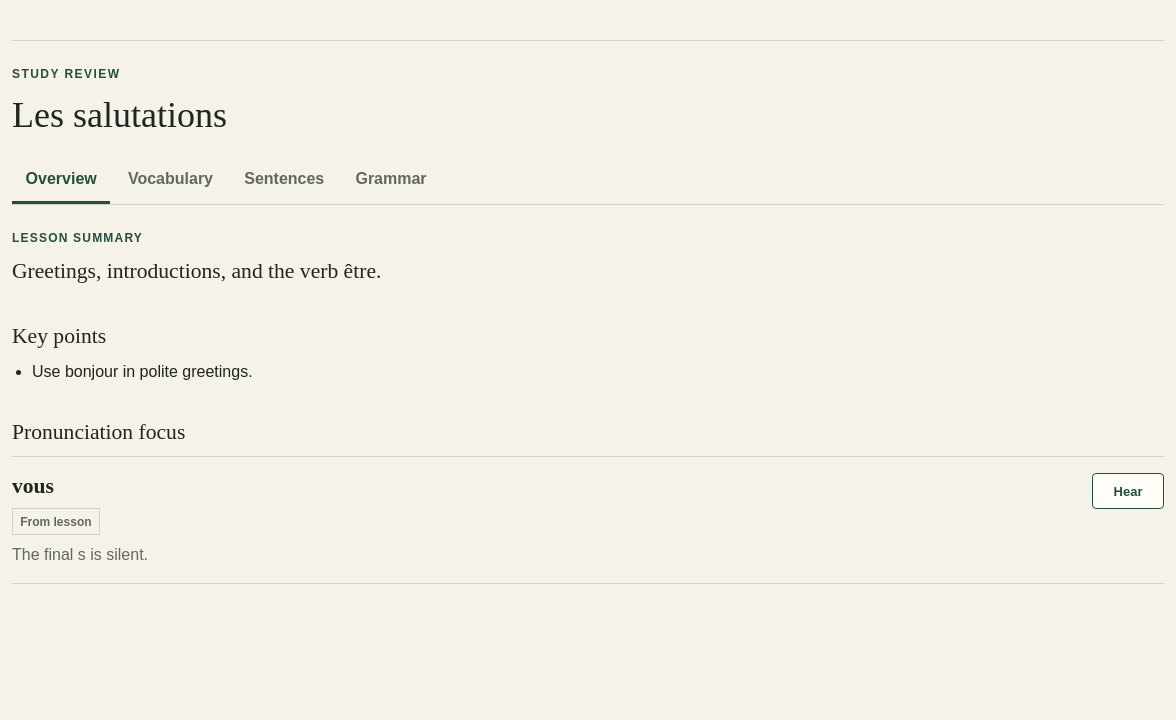
Test: structured lesson study rendering › renders sentence and grammar examples with explicit provenance
What coordinates should you click on to do the following:
click the tab "Sentences"
I would click on:
 (284, 180)
Its box is x1=231 y1=156 x2=338 y2=204.
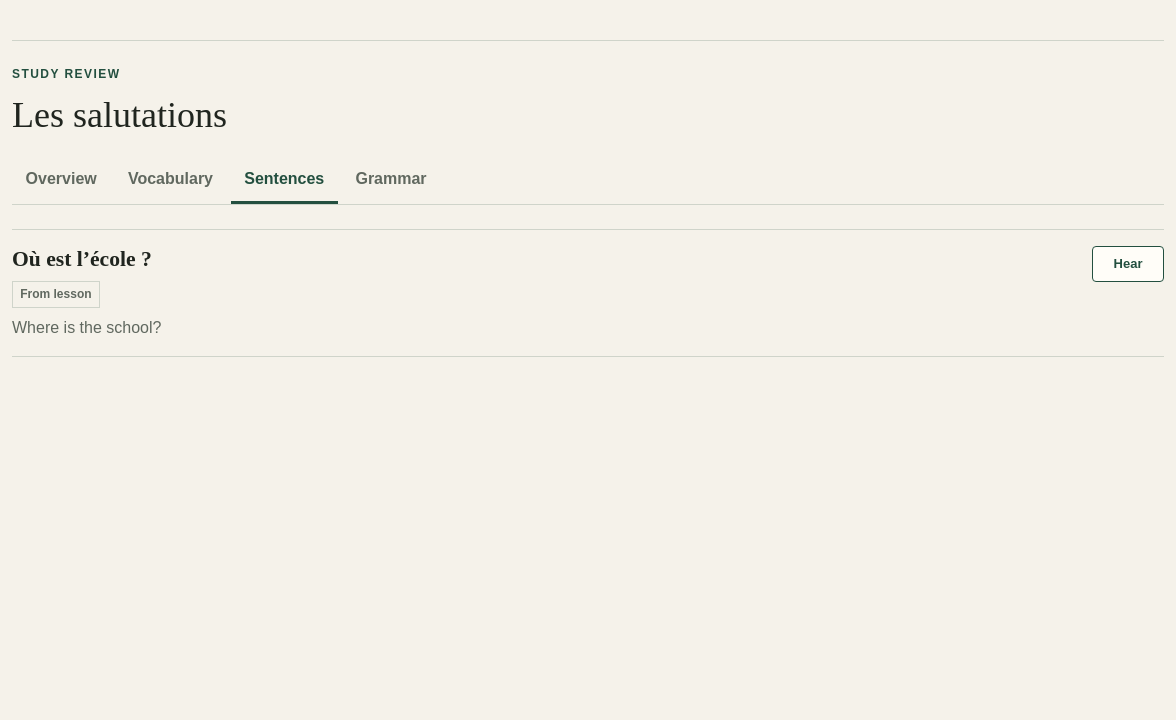
Check: the list item "Où est l’école ?" reads "Où est l’école ? From lesson Hear Where is the school?", box x1=12 y1=229 x2=1164 y2=357
What coordinates should you click on to do the following:
click the tab "Grammar"
I would click on:
 (391, 180)
Its box is x1=342 y1=156 x2=440 y2=204.
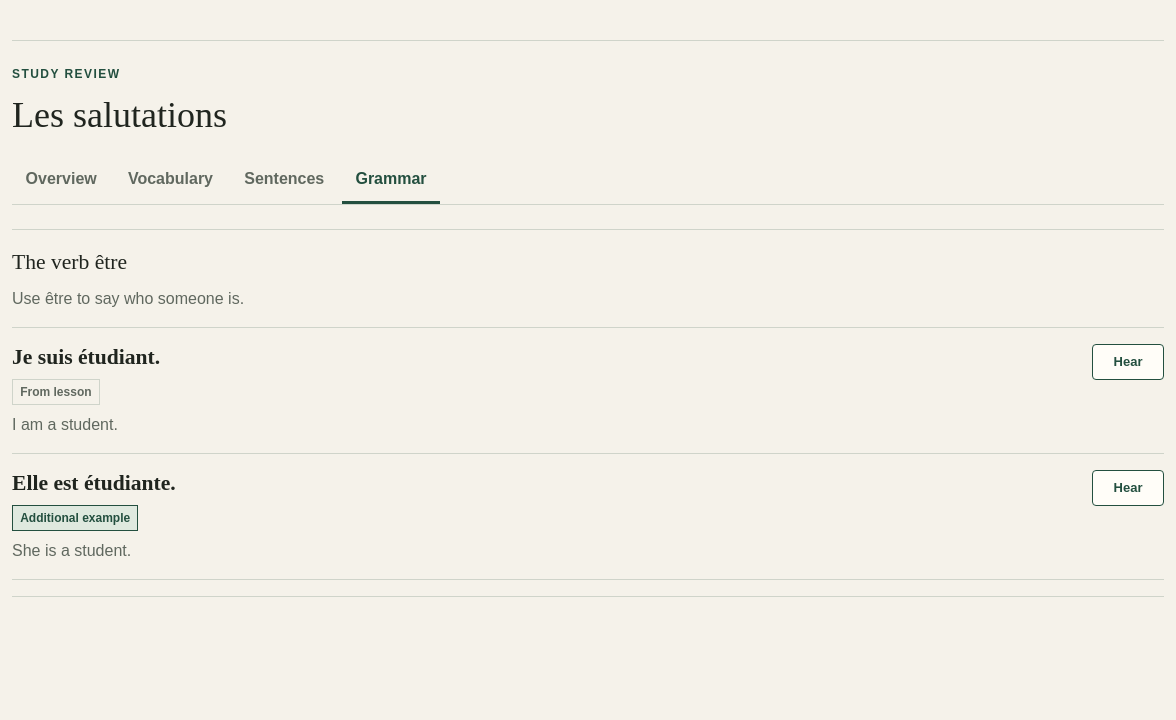
Check: the list item "Elle est étudiante." shows "Additional example", box x1=20 y1=511 x2=130 y2=525
Check: the list item "Elle est étudiante." reads "Elle est étudiante. Additional example Hear She is a student.", box x1=12 y1=453 x2=1164 y2=580
